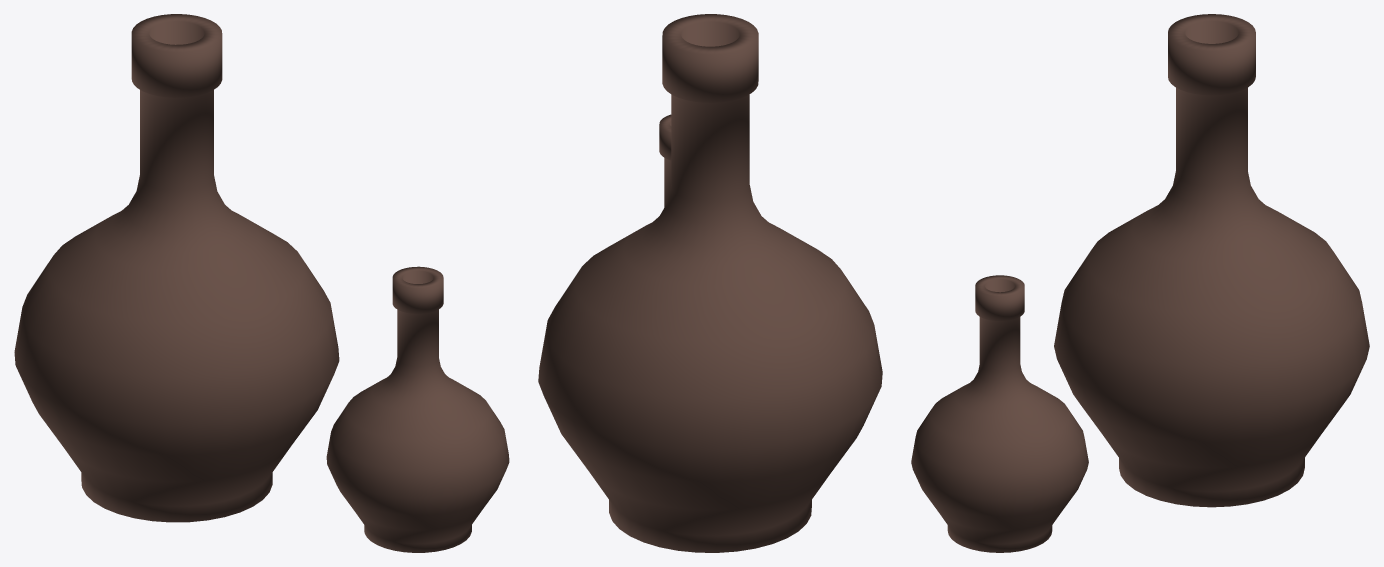
Rendered from Vases.glb.
The picture shows the model from 3 angles, left to right: view 1: azimuth 30°, elevation 25°; view 2: azimuth 150°, elevation 25°; view 3: azimuth 270°, elevation 25°; orthographic projection. The views are drawn at different scales.
Parts seen in each view (by area): view 1: Vases; view 2: Vases; view 3: Vases.
Part boxes in pixels (box(x1,y1,x2,y2)): Vases: box(14, 14, 509, 552); Vases: box(538, 14, 882, 552); Vases: box(911, 14, 1369, 552).
Bounding box in the file's own units: 2.81 × 3.42 × 3.27.
